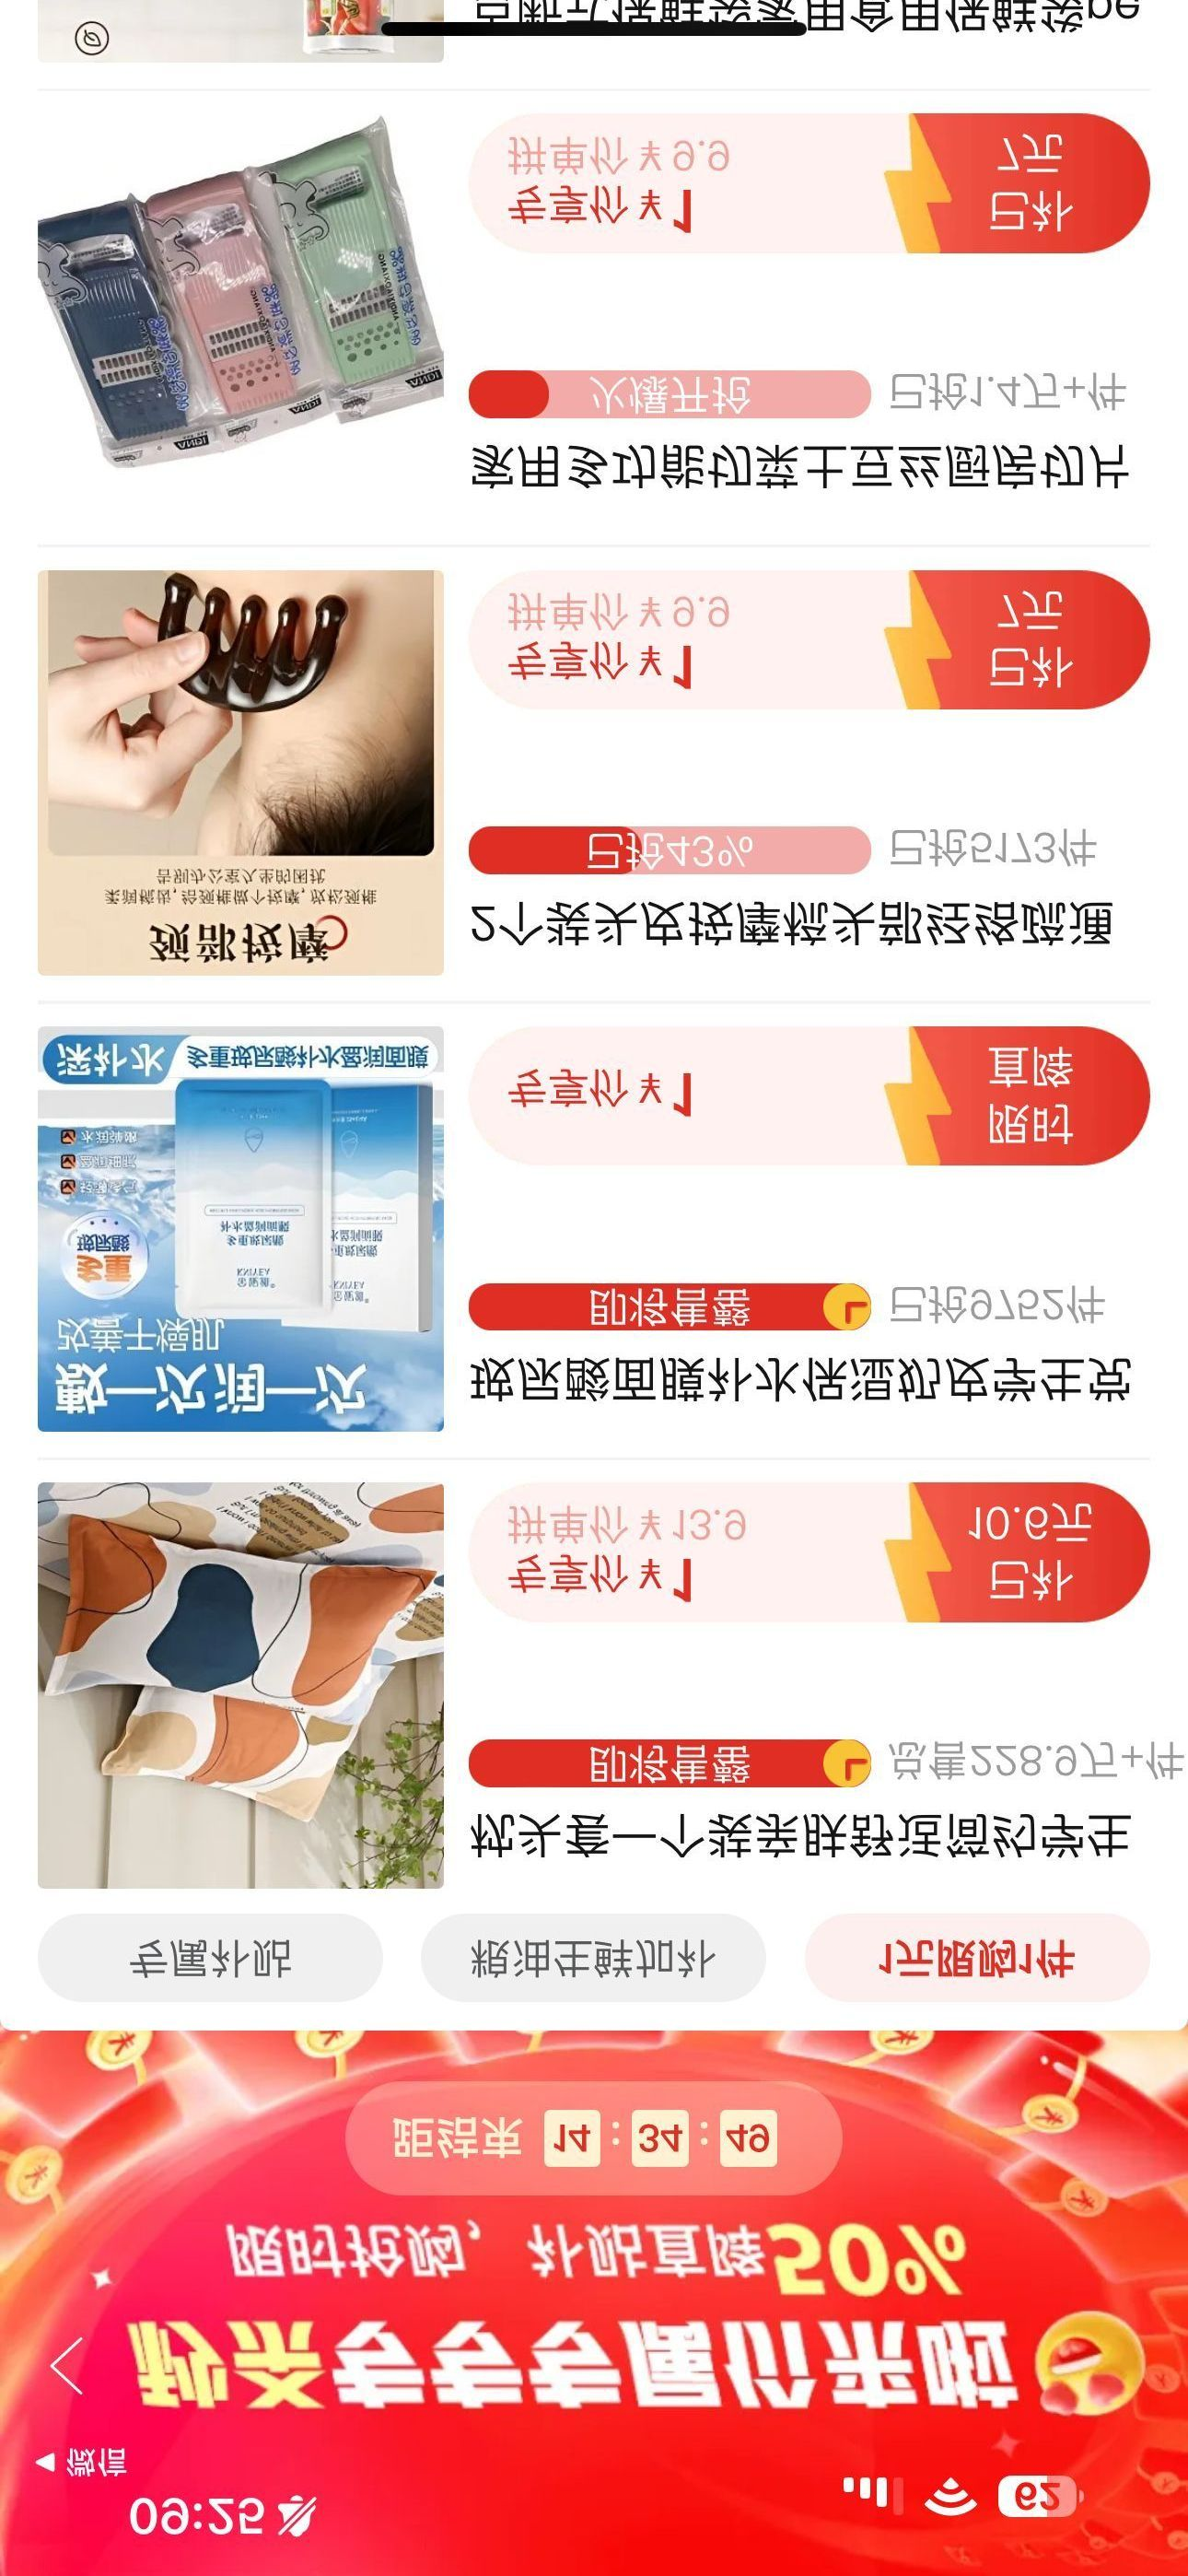item: (7, 77, 1181, 552), (7, 1459, 1185, 1916), (2, 1007, 1185, 1449), (7, 555, 1185, 999)
op_bar: (2, 2308, 1172, 2431)
